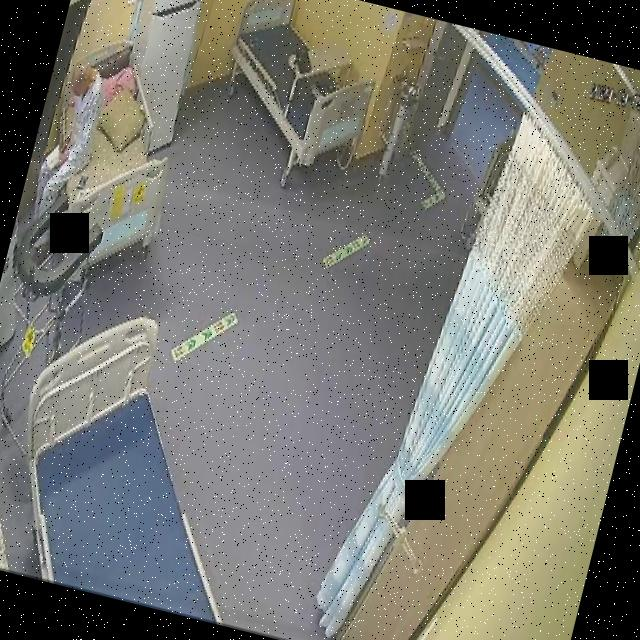bed: (0, 293, 288, 622), (21, 29, 202, 282), (207, 0, 393, 178)
patient: (30, 48, 116, 224)
sit: (30, 48, 115, 228)
walker: (0, 175, 117, 459)
